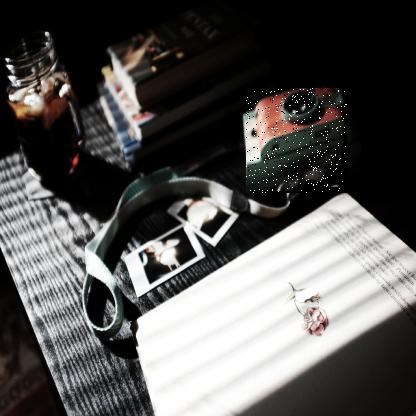Camera: (247, 89, 349, 195)
